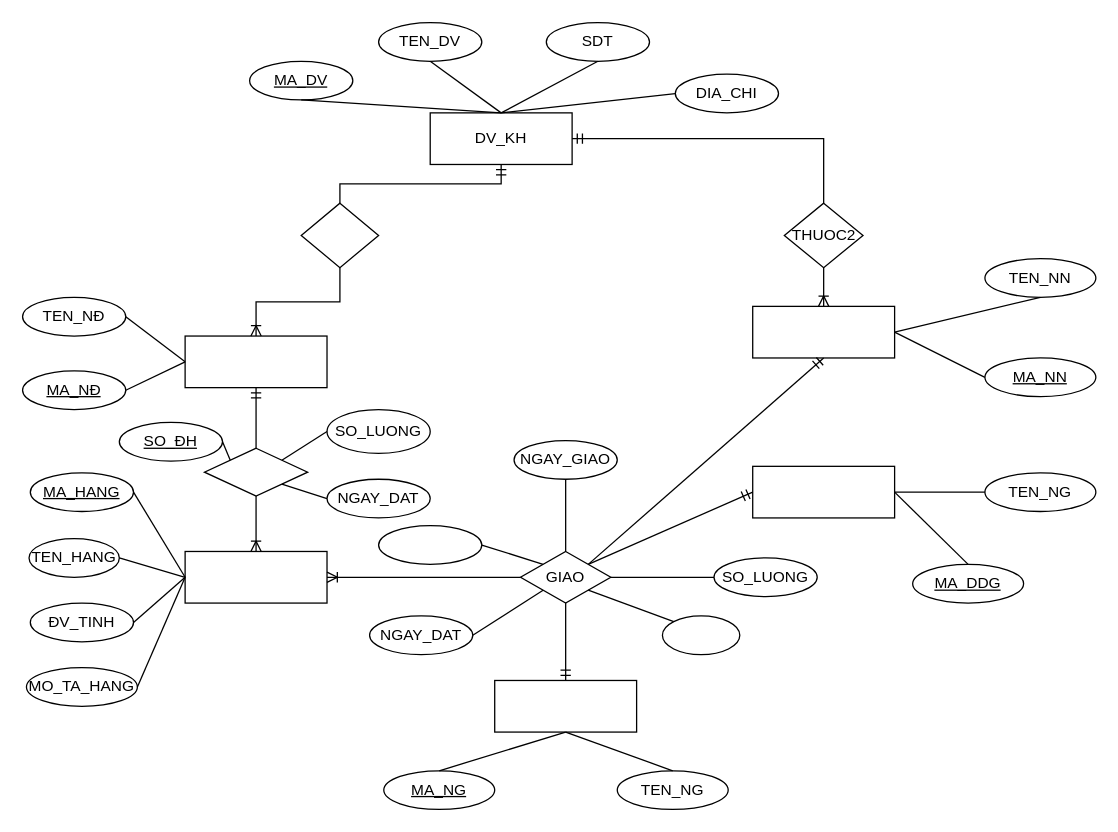
This 1118x832 diagram has some shape labels left out. The centre of each missing label's shape, as x and y in pixels:
"DAT" belongs at point (255, 471).
"DON_GIA" belongs at point (700, 635).
"HANG" belongs at point (255, 576).
"NGUOI_DAT" belongs at point (255, 361).
"NGUOI_GIAO" belongs at point (565, 705).
"NGUOI_NHAN" belongs at point (823, 331).
"NOI_GIAO" belongs at point (823, 491).
"SO_PG" belongs at point (429, 544).
"THUOC1" belongs at point (339, 235).
